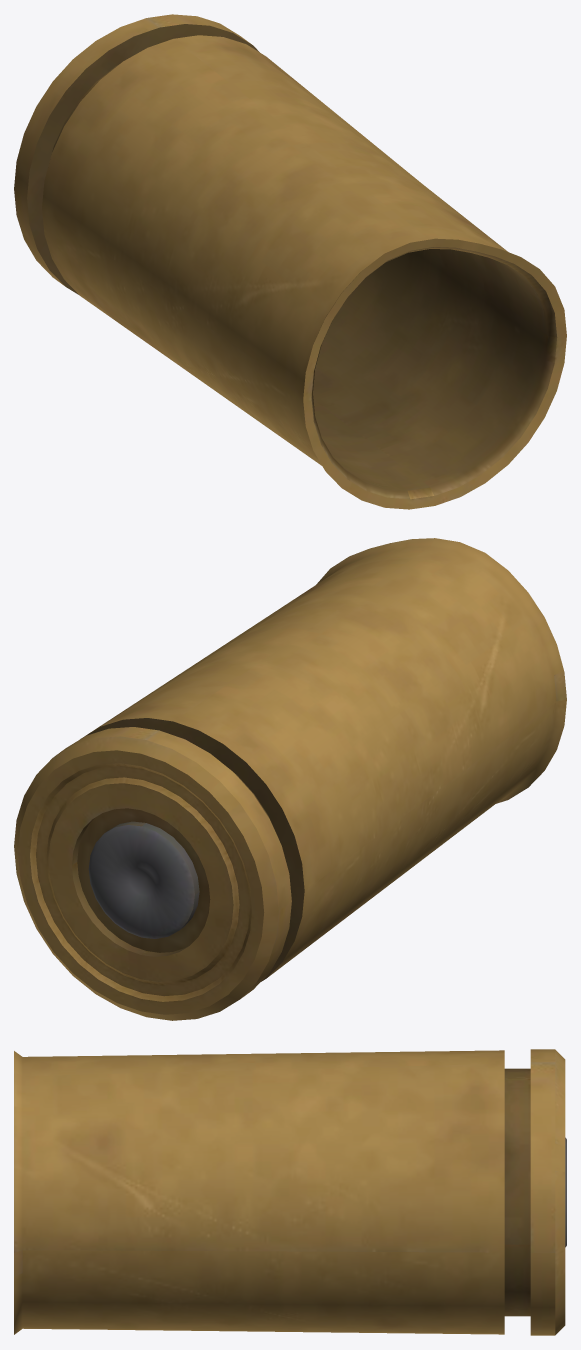
The model's file is shell_9mm.glb.
The picture shows the model from 3 angles, top to bottom: view 1: azimuth 30°, elevation 25°; view 2: azimuth 150°, elevation 25°; view 3: azimuth 270°, elevation 25°; orthographic projection. The views are drawn at different scales.
Visible parts, largest first — view 1: mesh_body; view 2: mesh_body; view 3: mesh_body.
Part boxes in pixels (box(x1,y1,x2,y2)): mesh_body: box(14, 14, 566, 509); mesh_body: box(14, 538, 566, 1020); mesh_body: box(14, 1049, 566, 1335).
Size of the model in its own units: 0.00996 by 0.00996 by 0.0192.
Materials: 2 (2 with a texture image).
